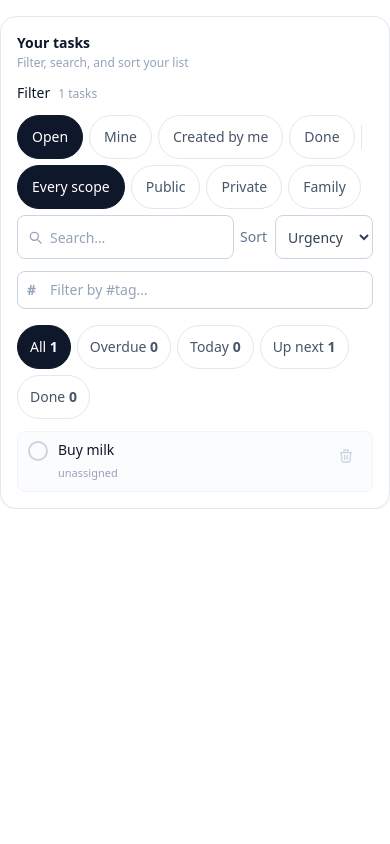
Test: TasksMainList › flat, no bands › says so, and offers a way back, when the filter has nothing in it
Click the button "Overdue 0": coordinates (124, 347) [77, 325, 171, 369]
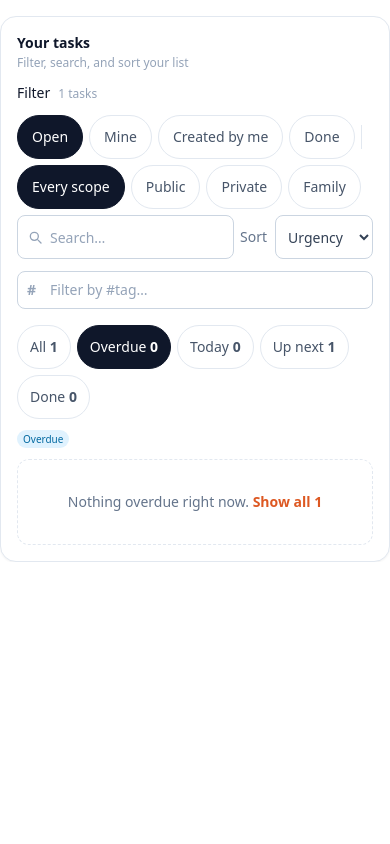
Expected: the text "Nothing overdue right now. Show all 1" is shown, [17, 459, 373, 545]
Click the button "Show all 1": coordinates (287, 502) [253, 492, 322, 512]
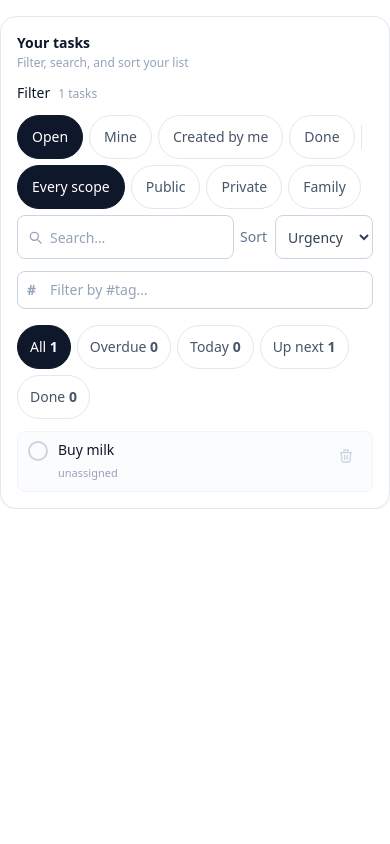
Expected: the button "Buy milk" is shown, [58, 440, 320, 460]
